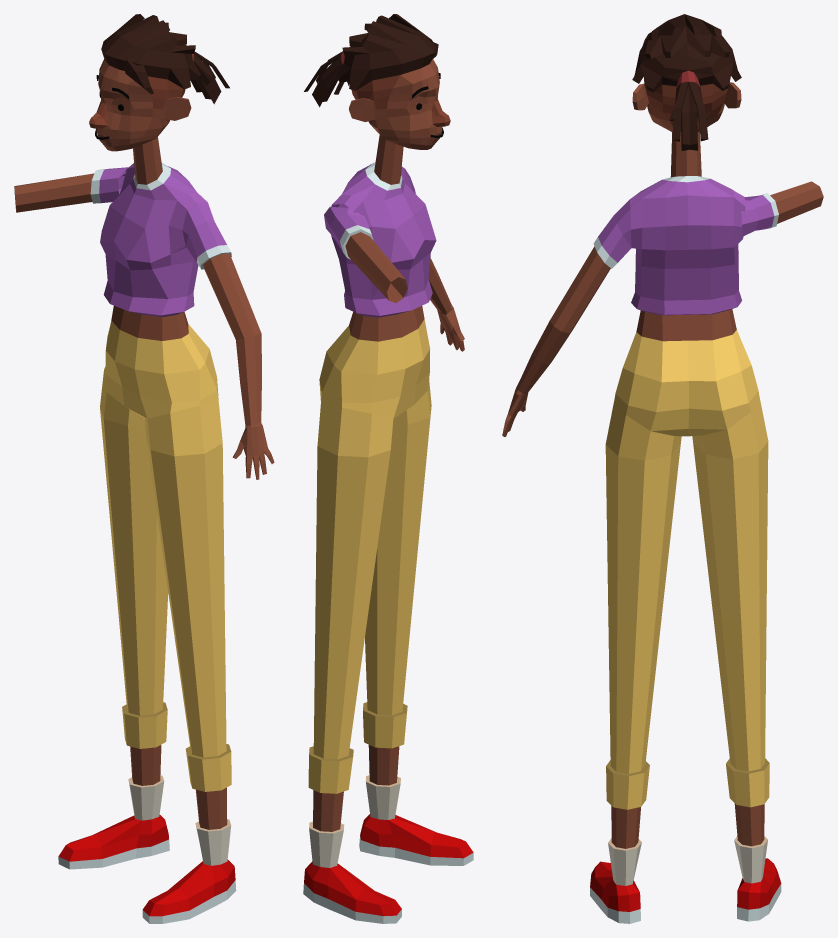
File: morra.obj
3 renders of one model, left to right at view 1: azimuth 30°, elevation 25°; view 2: azimuth 150°, elevation 25°; view 3: azimuth 270°, elevation 25°, orthographic.
Parts seen in each view (by area): view 1: Cube.001_Cube.004, Cube.001_Cube.001; view 2: Cube.001_Cube.004, Cube.001_Cube.001; view 3: Cube.001_Cube.004, Cube.001_Cube.001.
Part boxes in pixels (left/top/right/bottom): Cube.001_Cube.004: left=58, top=14, right=274, bottom=923; Cube.001_Cube.001: left=14, top=167, right=128, bottom=212; Cube.001_Cube.004: left=303, top=14, right=473, bottom=923; Cube.001_Cube.001: left=324, top=206, right=407, bottom=302; Cube.001_Cube.004: left=502, top=14, right=781, bottom=923; Cube.001_Cube.001: left=741, top=181, right=823, bottom=236.
Size of the model in its own units: 2.66 by 14.48 by 4.8.
Materials: 1 (1 with a texture image).
